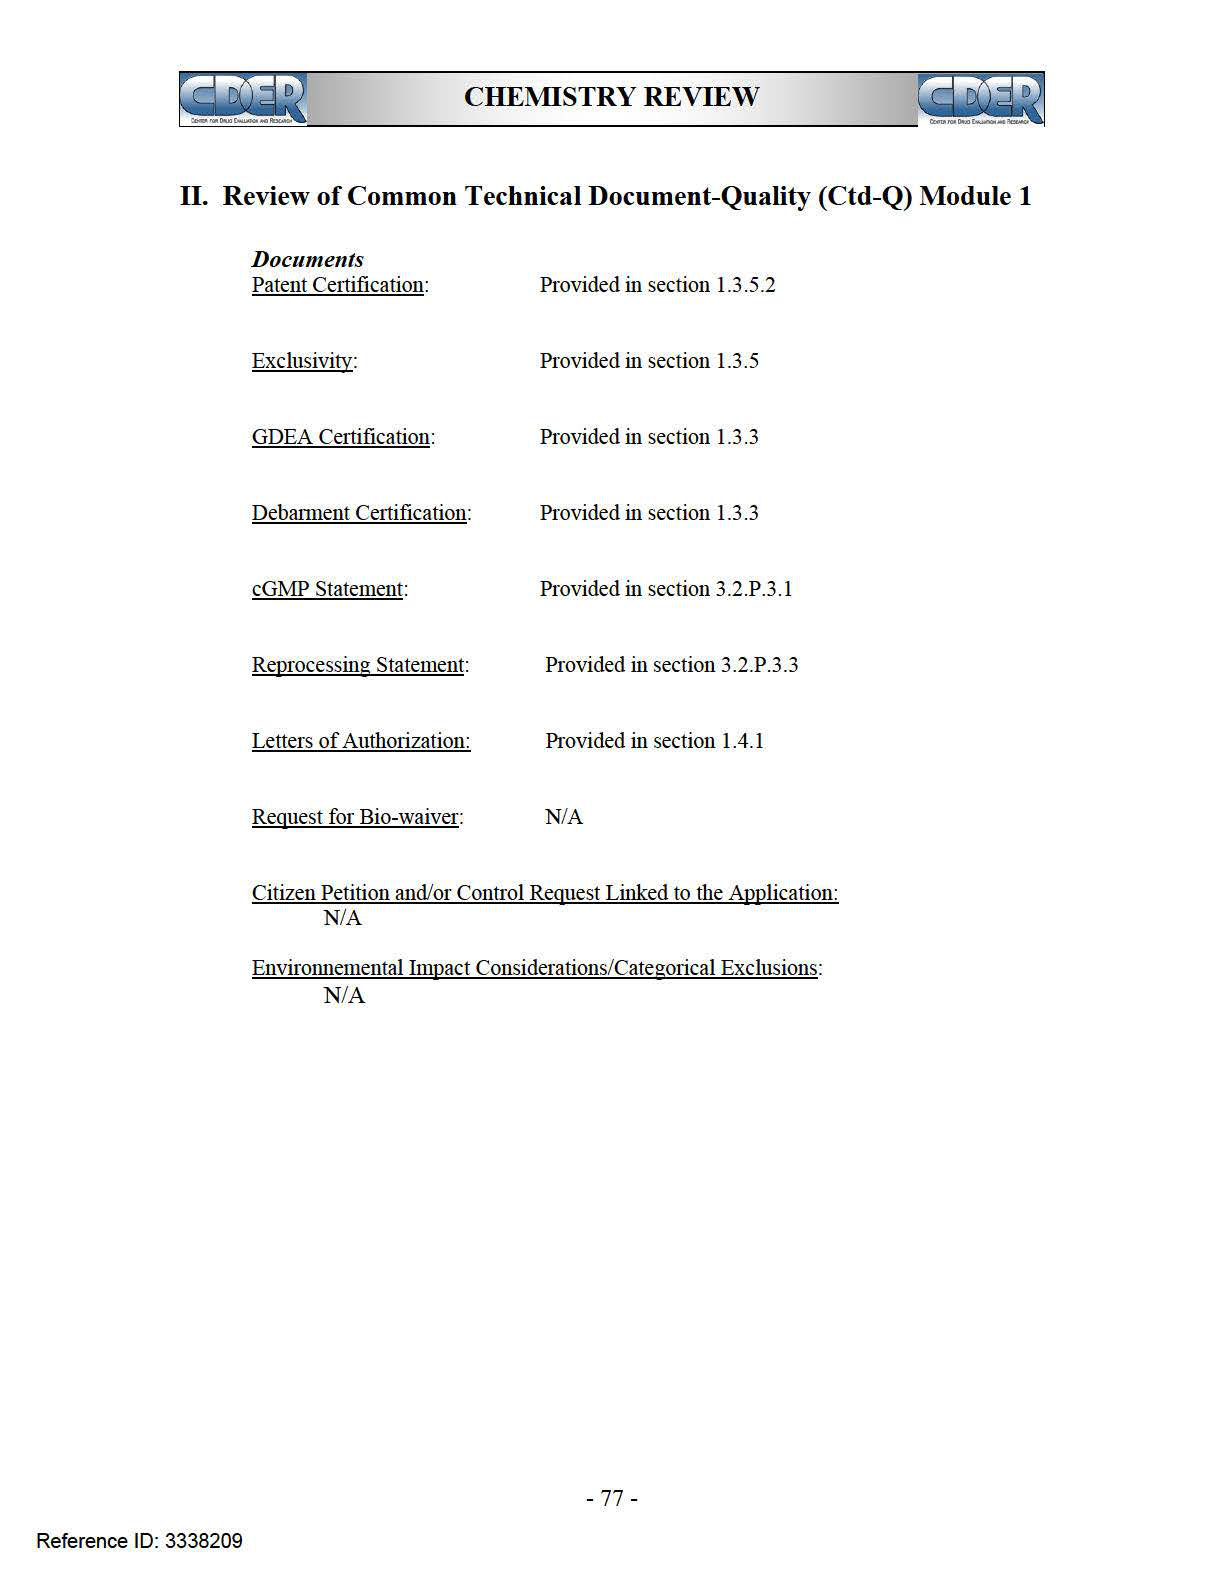nolines: (247, 246, 810, 837)
